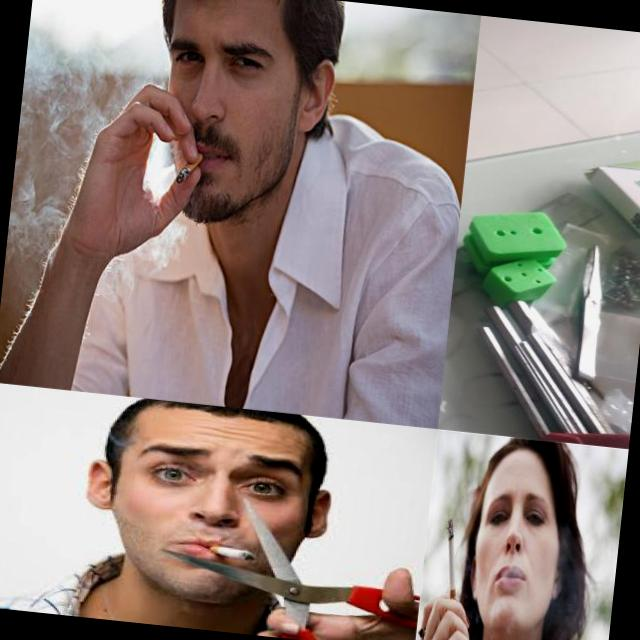cigarette: (436, 515, 470, 603), (174, 141, 207, 188), (207, 544, 256, 562)
